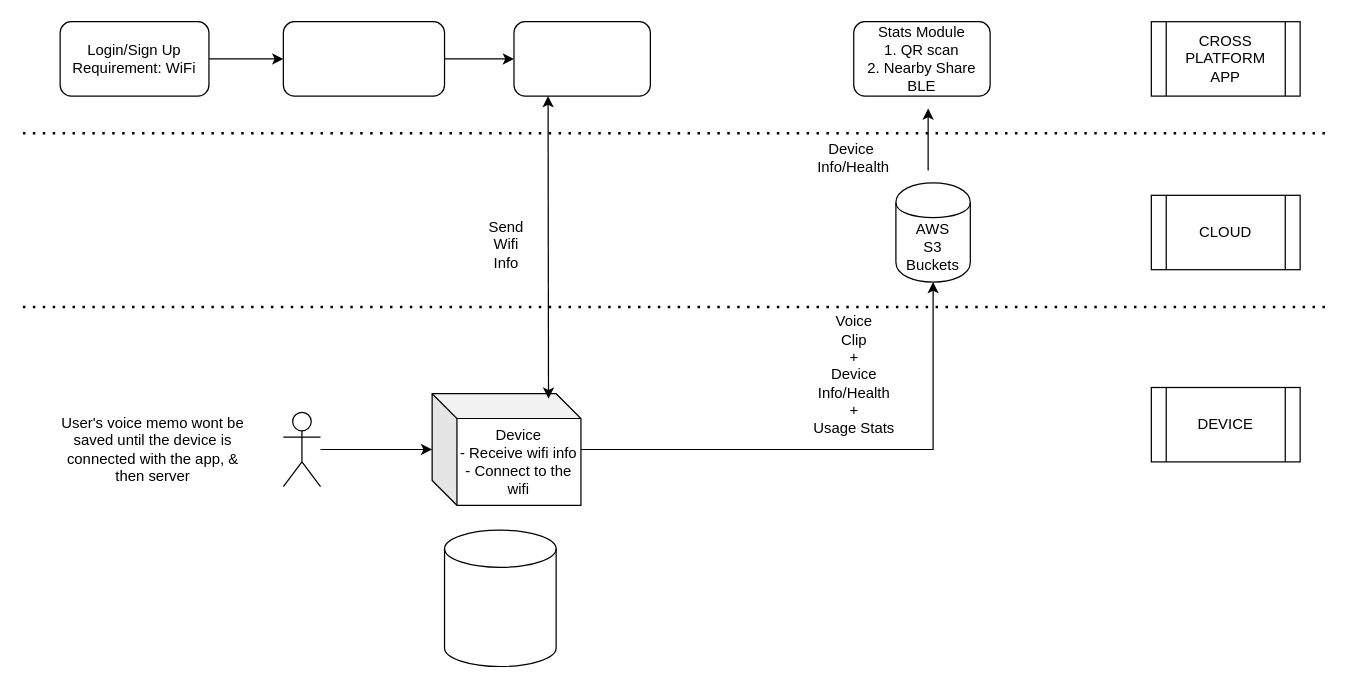
The diagram is 1348 pixels wide and 688 high, and some of its shapes have lost their labels. Each missing label, with the centre of its shape:
Actor: (x=301, y=449)
Cache/Storage with compressed voice memo: (x=499, y=597)
Connect Module 1. QR scan 2. Nearby Share BLE: (x=581, y=58)
WiFi Module - Permission Handle - Network Info Harvest: (x=363, y=58)
